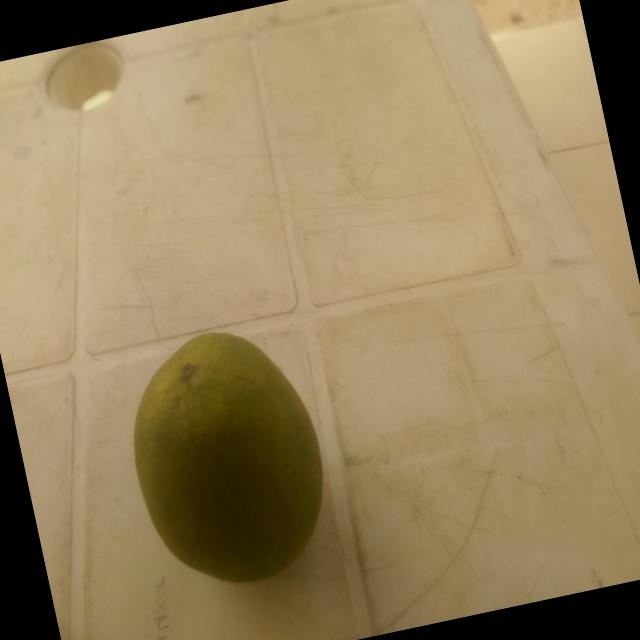agrume: (77, 288, 361, 624)
